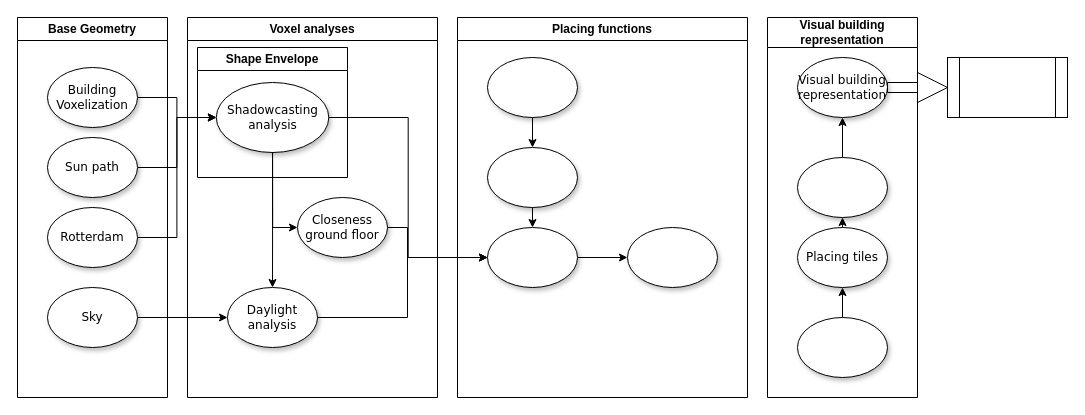
Some shapes in this 1085 by 415 pixel diagram are drawn without their labels. The centre of each missing label's shape, as x and y in pixels:
"Functions" belongs at point (533, 88).
"Growing functions" belongs at point (673, 258).
"post-processing" belongs at point (843, 188).
"Preferences and weights" belongs at point (533, 178).
"Rendering in Twinmotion" belongs at point (1007, 87).
"Tiles" belongs at point (843, 348).
"Weighing points" belongs at point (533, 258).
